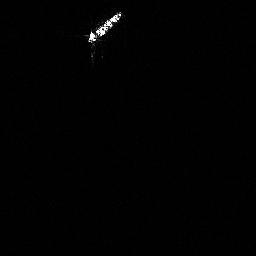ship: (83, 8, 125, 47)
